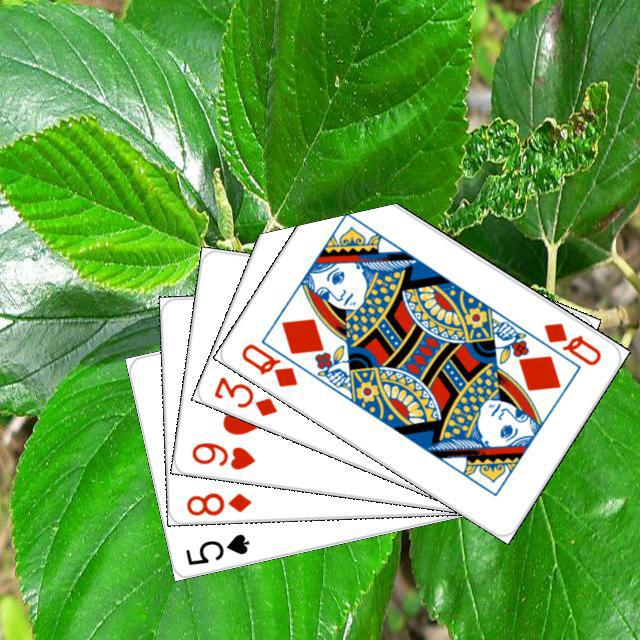3d: (209, 371, 279, 418)
5s: (180, 529, 251, 567)
8d: (182, 487, 253, 517)
9h: (186, 437, 257, 472)
Qd: (538, 317, 603, 368), (236, 338, 299, 389)
